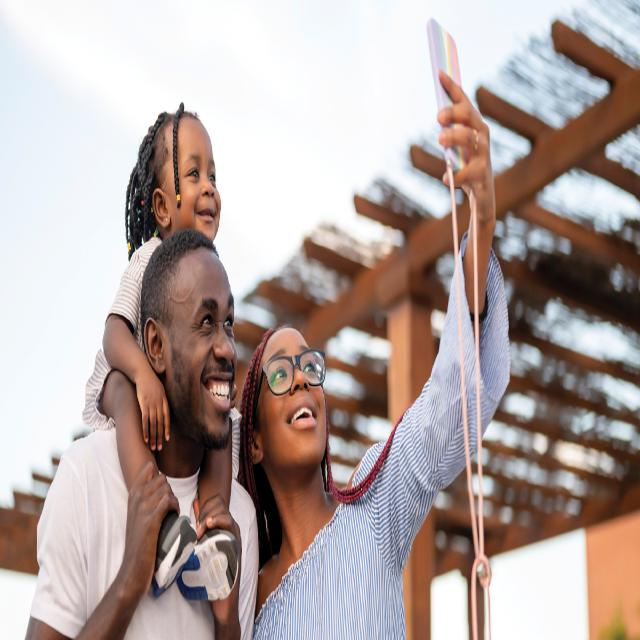adult: (236, 67, 510, 640), (23, 230, 257, 640)
child: (85, 104, 242, 602)
